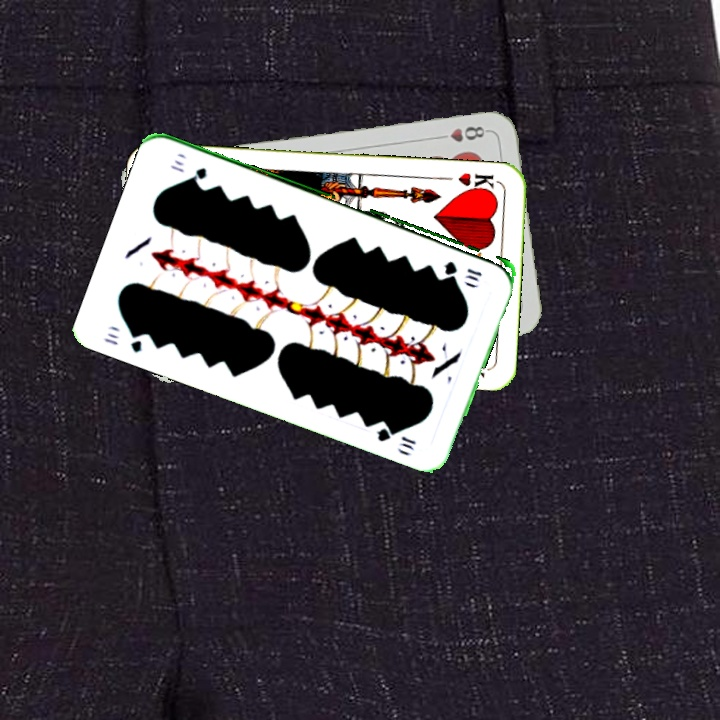G10: (100, 326, 147, 355), (440, 257, 485, 284)
H8: (433, 122, 492, 145)
HK: (454, 168, 501, 196)
